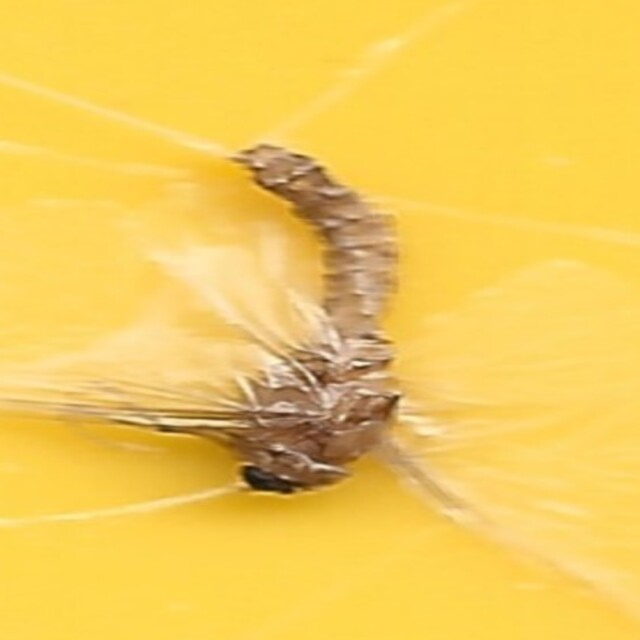Ephemeroptera: (230, 136, 410, 504)
